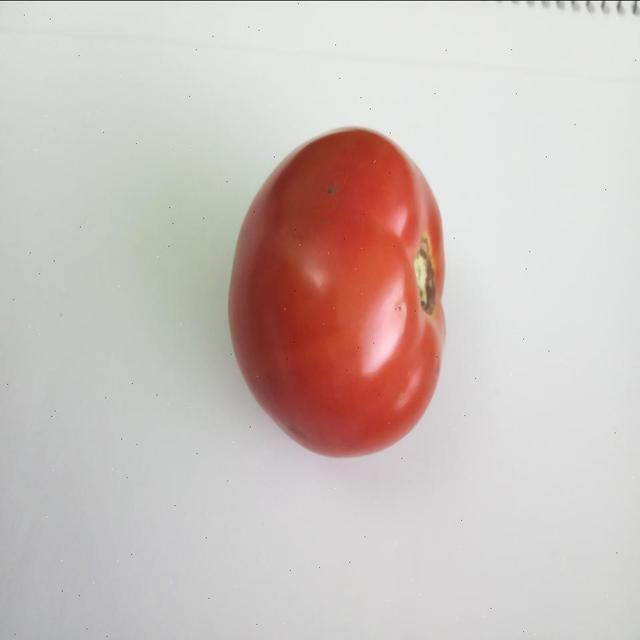Healthy Fruit: (148, 81, 303, 309)
